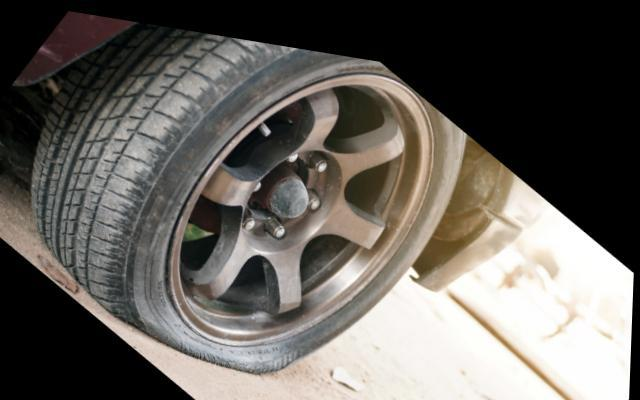tire flat: (30, 18, 468, 366)
